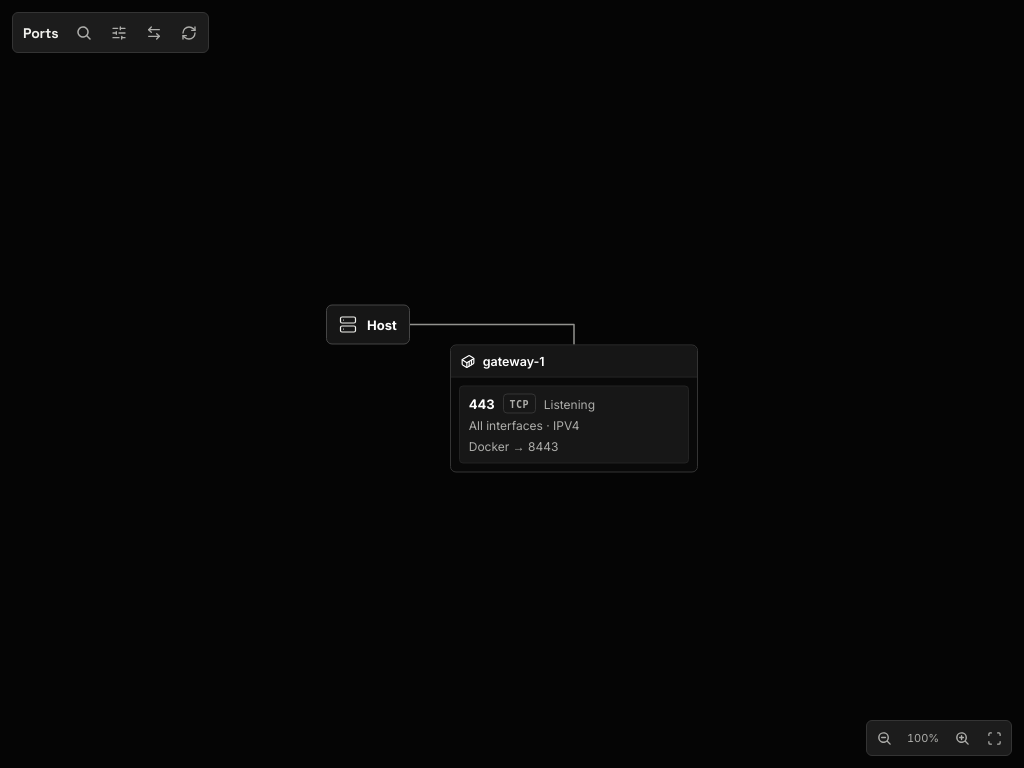
Test case: PortsPane › does not present runtime unit docker.service as the service of a published container endpoint
Click the button "443 TCP Listening All interfaces · IPV4 Docker → 8443" at (574, 424), box [459, 386, 689, 464]
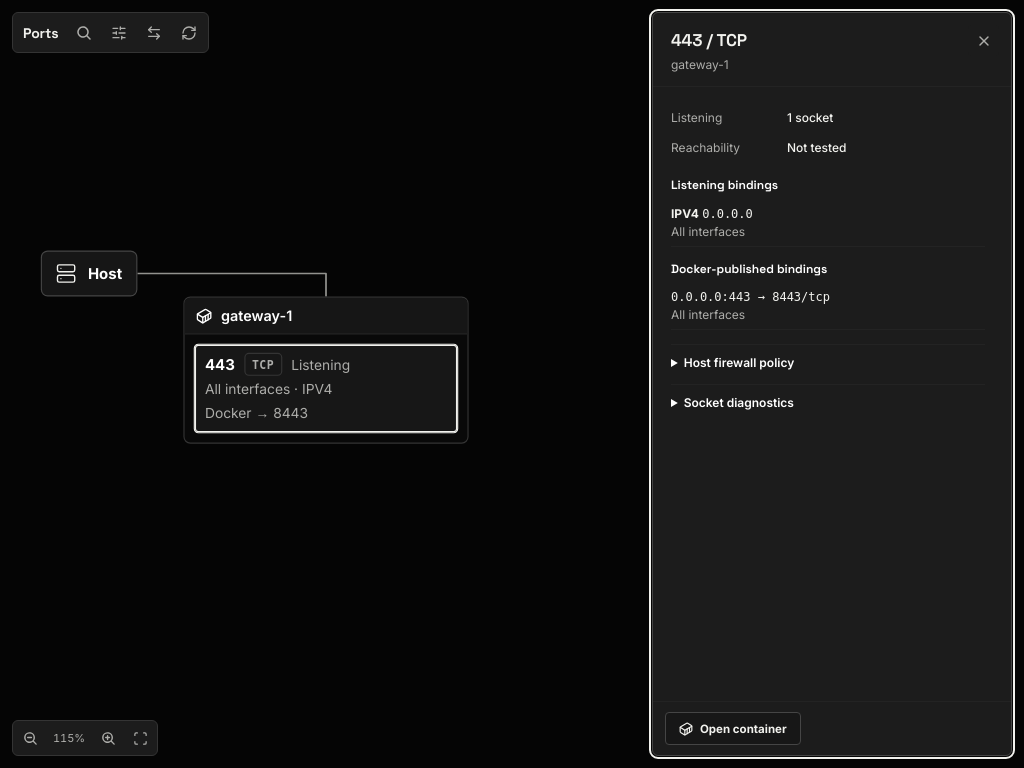
Check: the button "Open container" is shown, box [665, 712, 801, 745]
